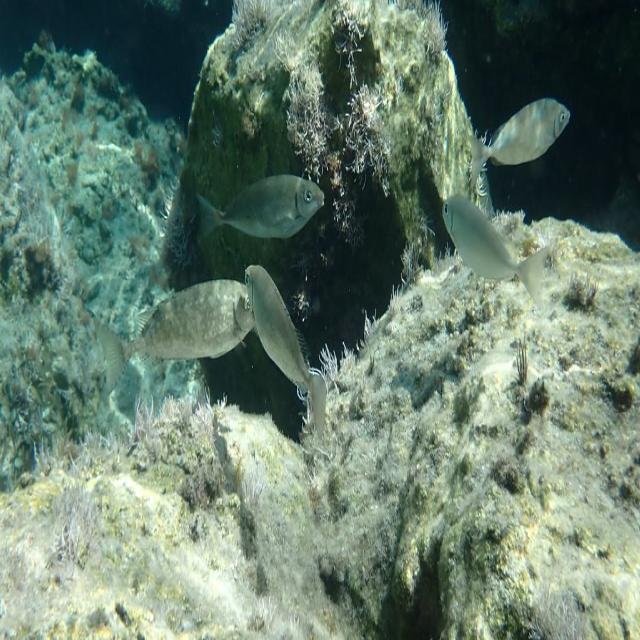Sokar Baligi: (432, 185, 554, 321), (183, 163, 336, 257), (460, 82, 583, 198)
